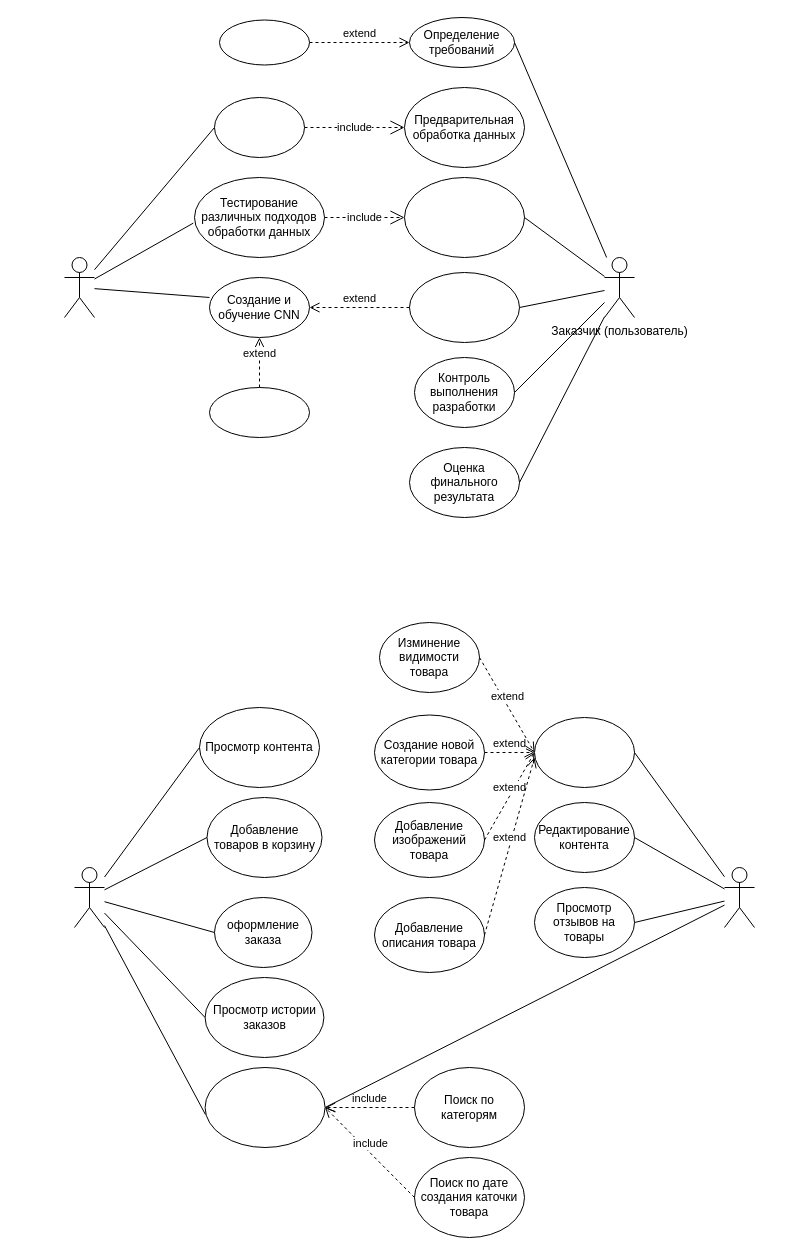
Image size: 808x1255. Some labels were removed from this diagram. Here are the shapes that lost their labels. From the top down, the centre of each, then its label:
At point (264, 42): "Передача правок".
At point (259, 127): "Получение данных".
At point (464, 217): "Анализ и документирование (включение)".
At point (79, 287): "Разработчик (студент)".
At point (464, 307): "Использование нейросети".
At point (259, 412): "Оптимизация нейросети".
At point (584, 752): "Добавление товаров".
At point (89, 897): "Заказчик (покупатель)".
At point (739, 897): "Контент менеджер".
At point (264, 1107): "Поиск товаров".
